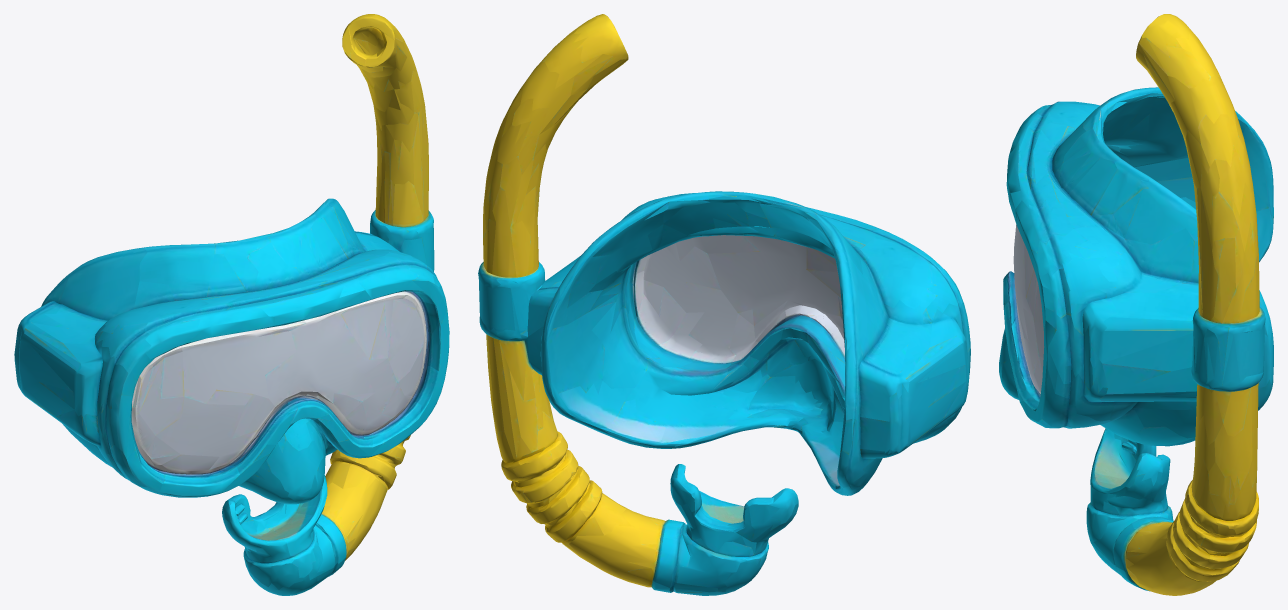
File: snorkel_mask.glb
3 renders of one model, left to right at view 1: azimuth 30°, elevation 25°; view 2: azimuth 150°, elevation 25°; view 3: azimuth 270°, elevation 25°, orthographic. The views are drawn at different scales.
Visible parts, largest first — view 1: Mesh_0; view 2: Mesh_0; view 3: Mesh_0.
Part boxes in pixels (box(x1,y1,x2,y2)): Mesh_0: box(14, 14, 449, 595); Mesh_0: box(478, 14, 970, 595); Mesh_0: box(999, 14, 1273, 595).
Size of the model in its own units: 0.7924 by 1 by 0.4107.
Materials: 1 (1 with a texture image).
